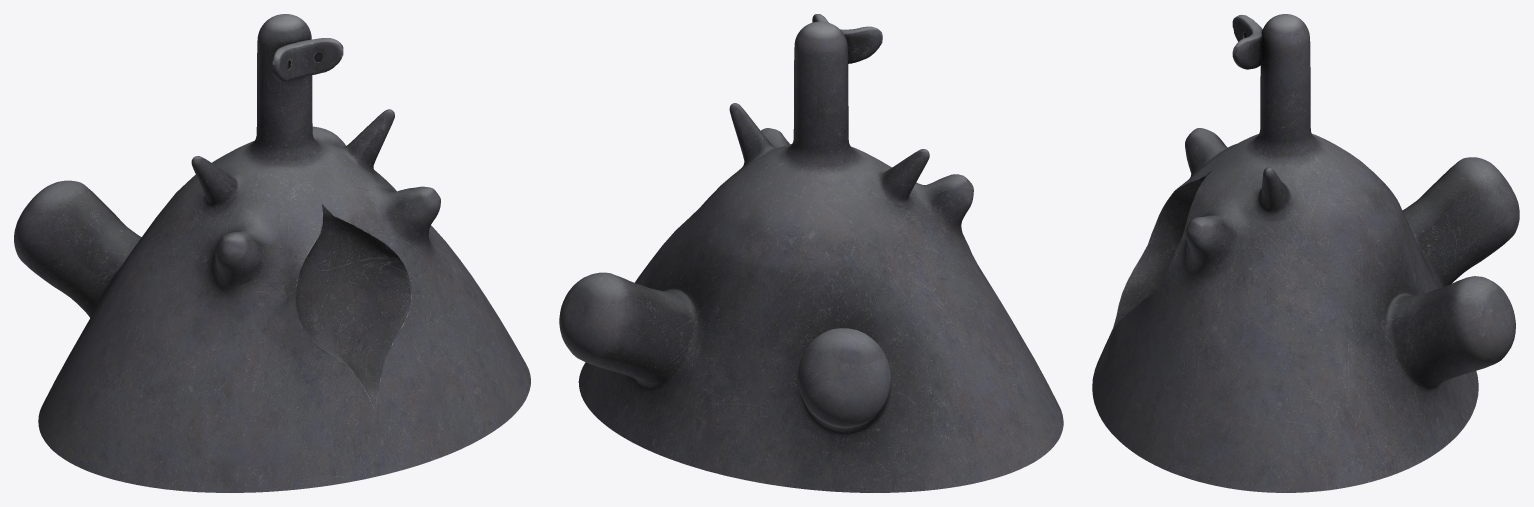
The model's file is GrandeMaternite.glb.
The picture shows the model from 3 angles, left to right: view 1: azimuth 30°, elevation 25°; view 2: azimuth 150°, elevation 25°; view 3: azimuth 270°, elevation 25°; orthographic projection. The views are drawn at different scales.
Visible parts, largest first — view 1: pSphere2; view 2: pSphere2; view 3: pSphere2.
Part boxes in pixels (bbox=[...]): pSphere2: bbox=[14, 14, 530, 492]; pSphere2: bbox=[559, 14, 1063, 492]; pSphere2: bbox=[1092, 14, 1519, 492].
Size of the model in its own units: 1.93 by 1.58 by 1.65.
1 material, 1 textured.
